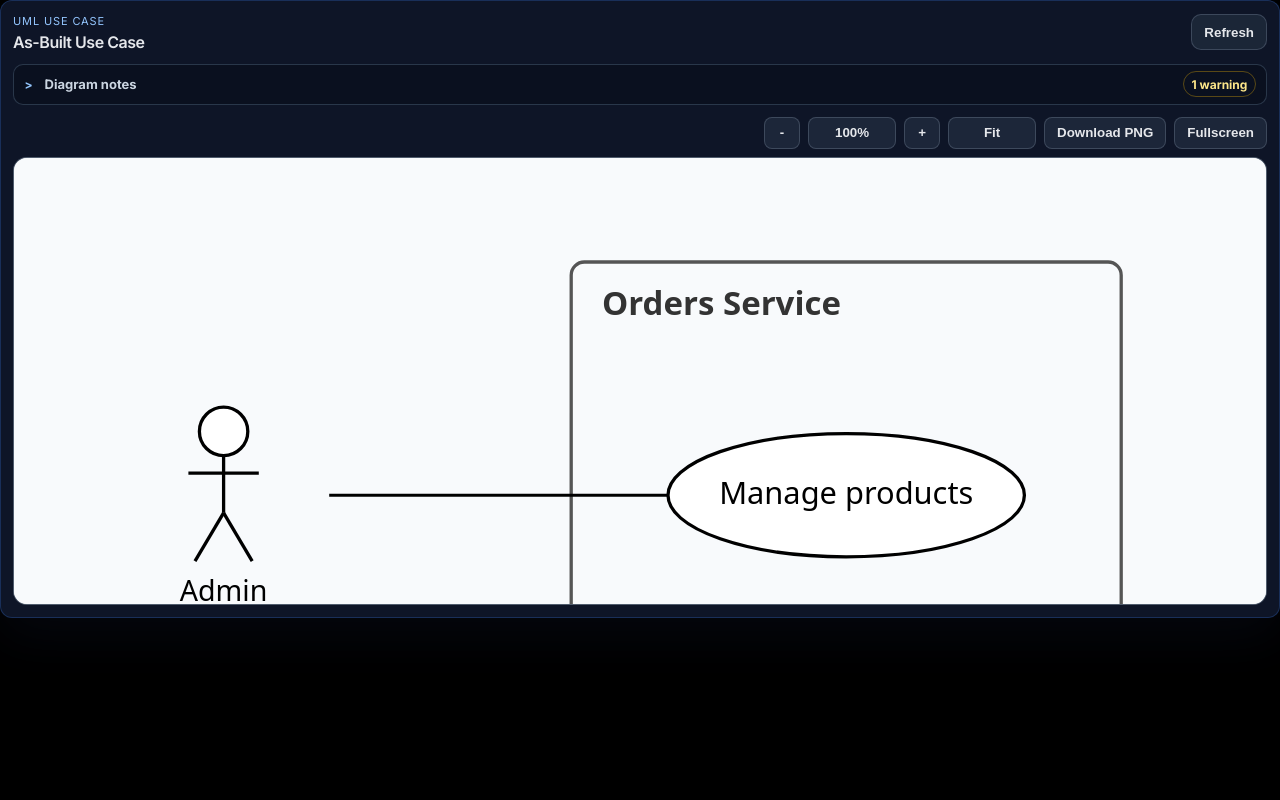
DiagramPanel › opens and closes the fullscreen diagram viewer
Click the button with test id "diagram-fullscreen-open" at (1221, 132), box [1174,116,1267,148]
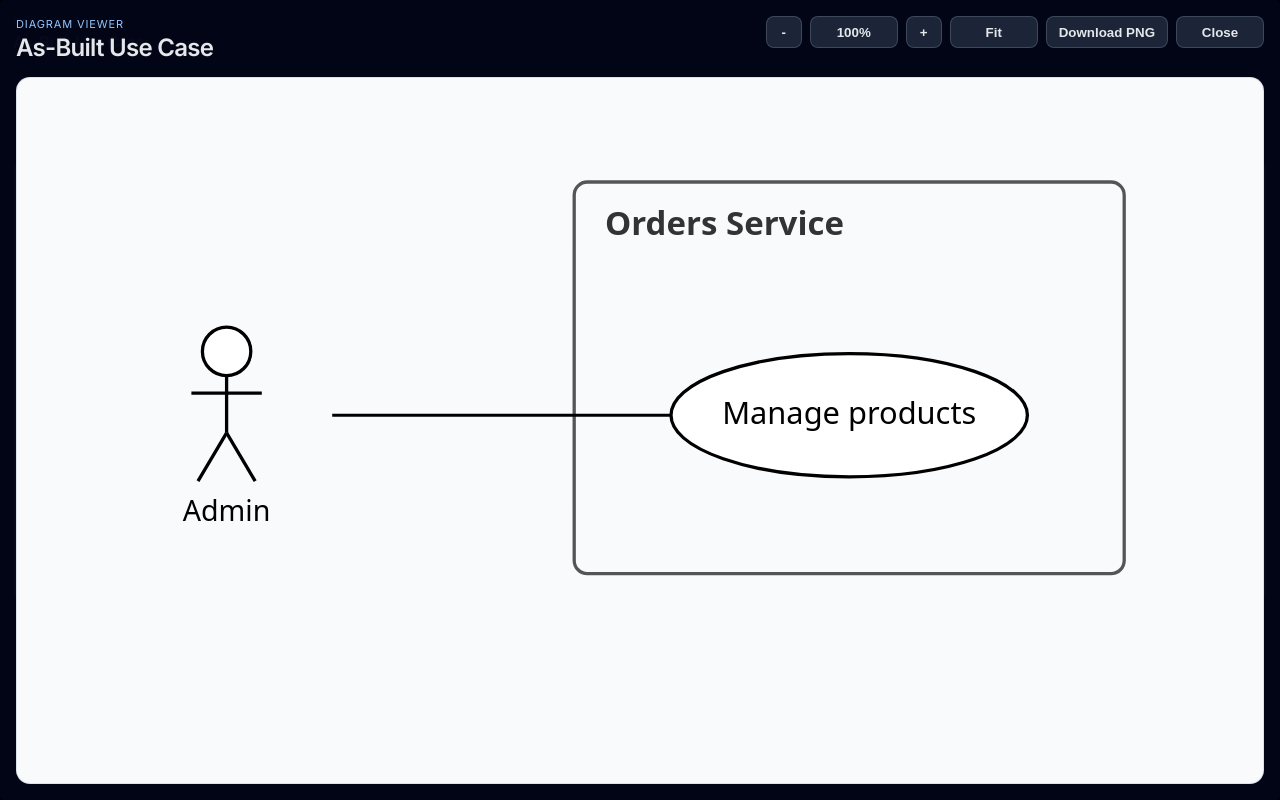
Now the dialog with test id "diagram-fullscreen" is shown
Now the text "Diagram viewer" is shown, box [16,17,124,31]
Click the button with test id "diagram-fullscreen-close" at (1220, 32), box [1176,16,1264,48]
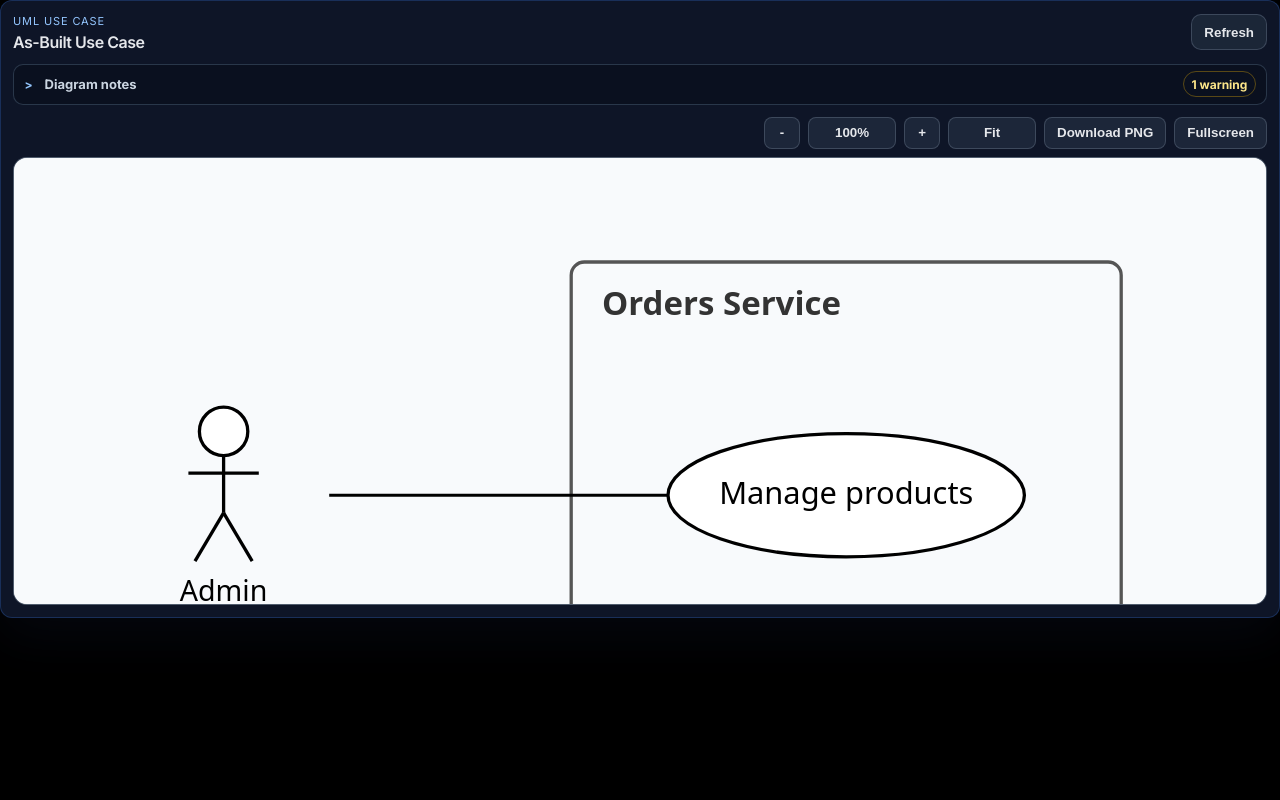
Now the dialog with test id "diagram-fullscreen" is gone
